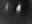person: (17, 3, 24, 17), (5, 3, 11, 16)
